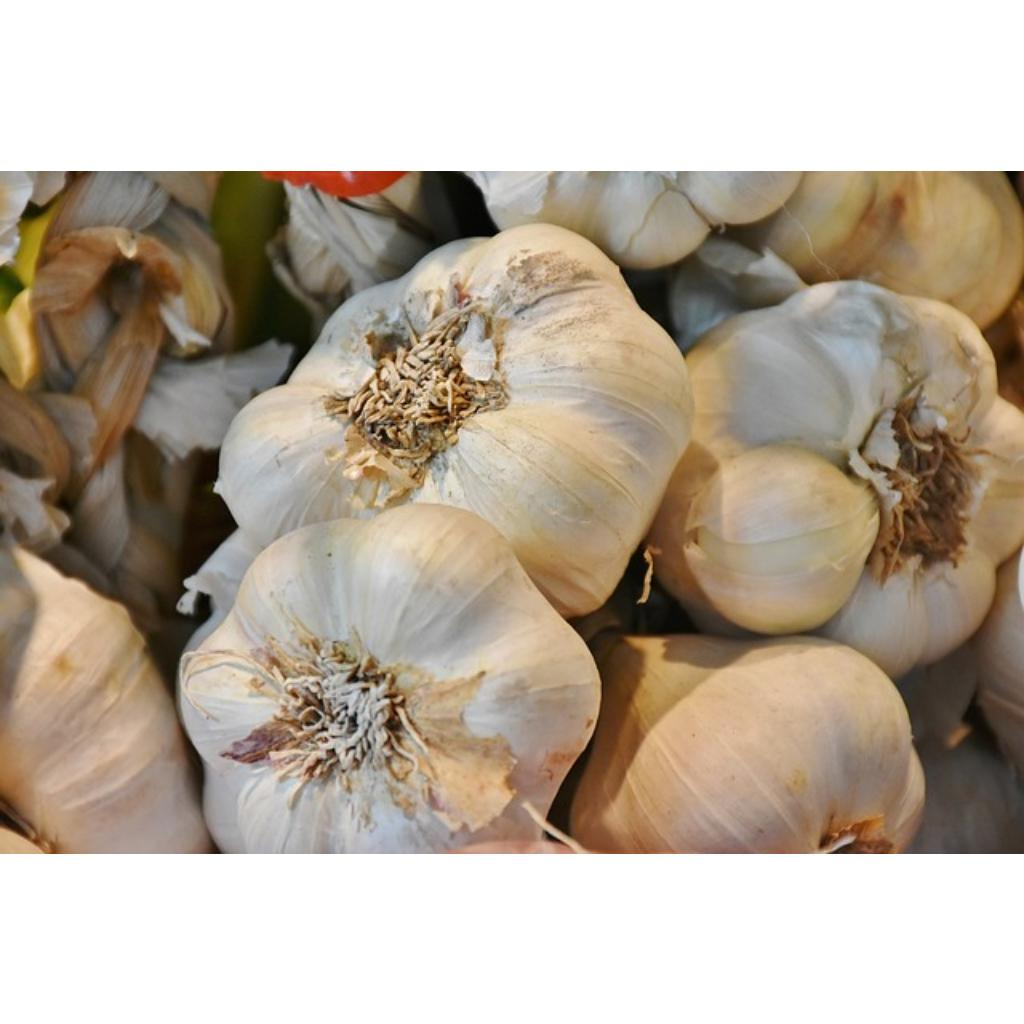garlic: (218, 224, 692, 614), (650, 280, 1024, 674), (180, 504, 600, 851), (570, 634, 922, 852)
